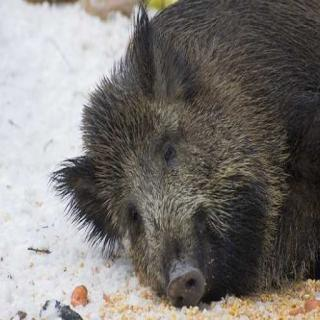Pig: (30, 0, 320, 308)
